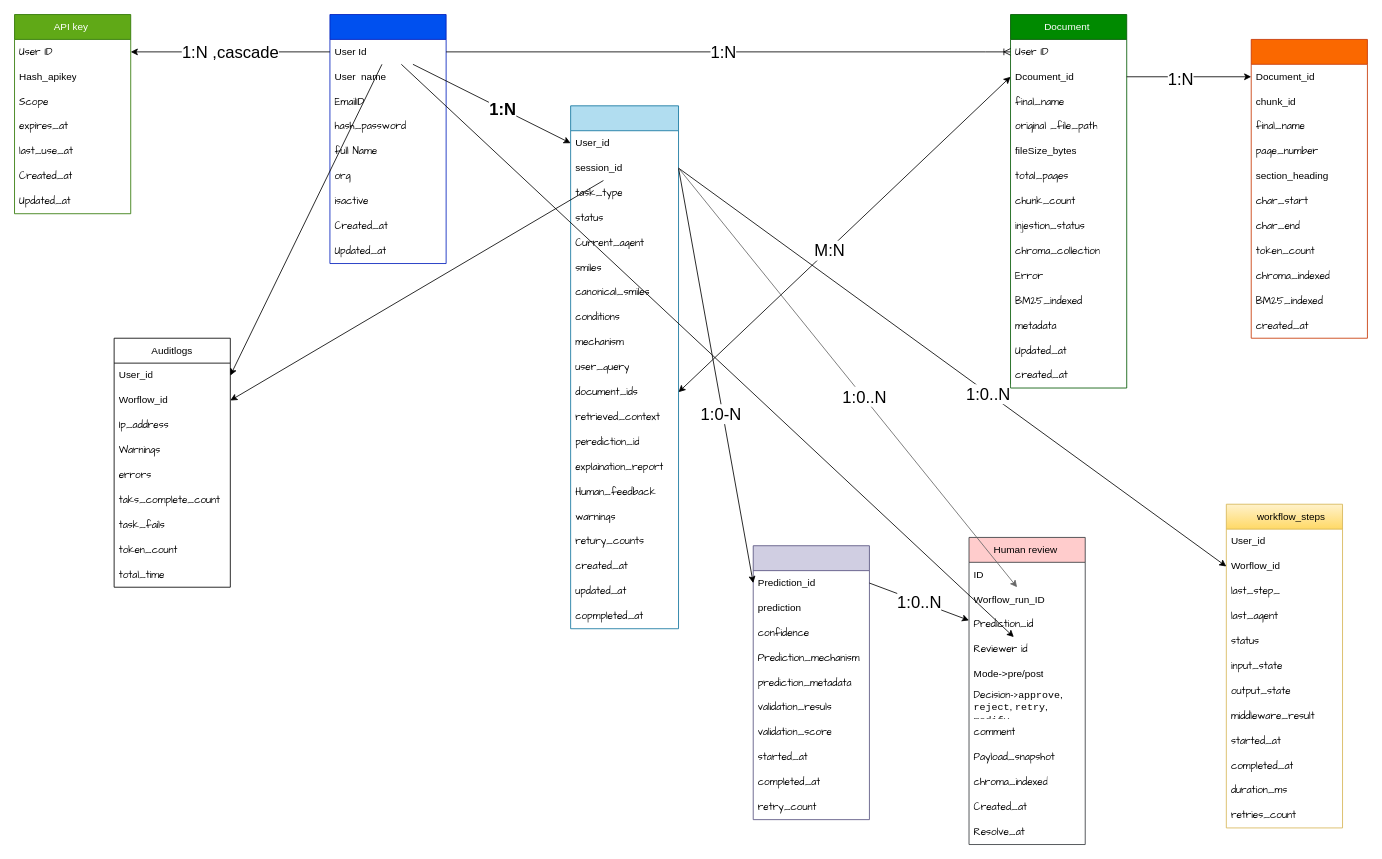
Some shapes in this 1382 by 859 pixel diagram are drawn without their labels. The shapes that lost their labels are listed below. From the top down, each one's box as (x1, y1, x2, y2) in pixels, then its label:
(1250, 39, 1367, 338): Document _chunks
(570, 105, 679, 629): WorfFlow_runs
(752, 545, 869, 820): Predictions
